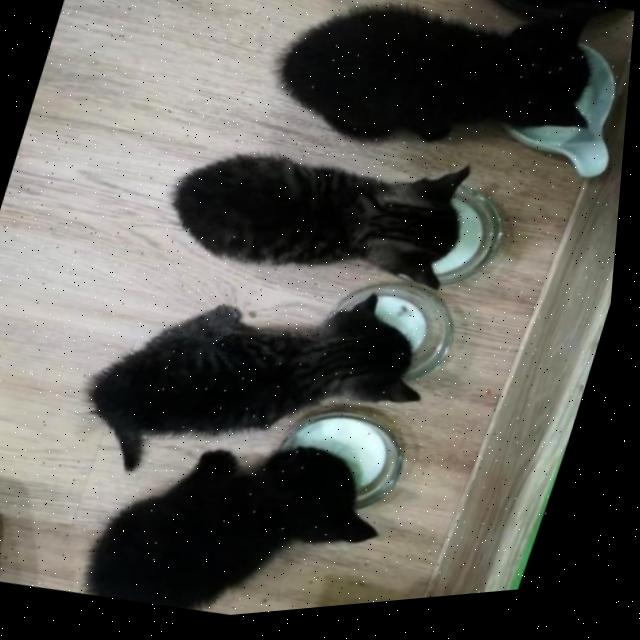Cats: (47, 218, 465, 515), (146, 93, 533, 343), (77, 386, 426, 632), (246, 0, 640, 217)
